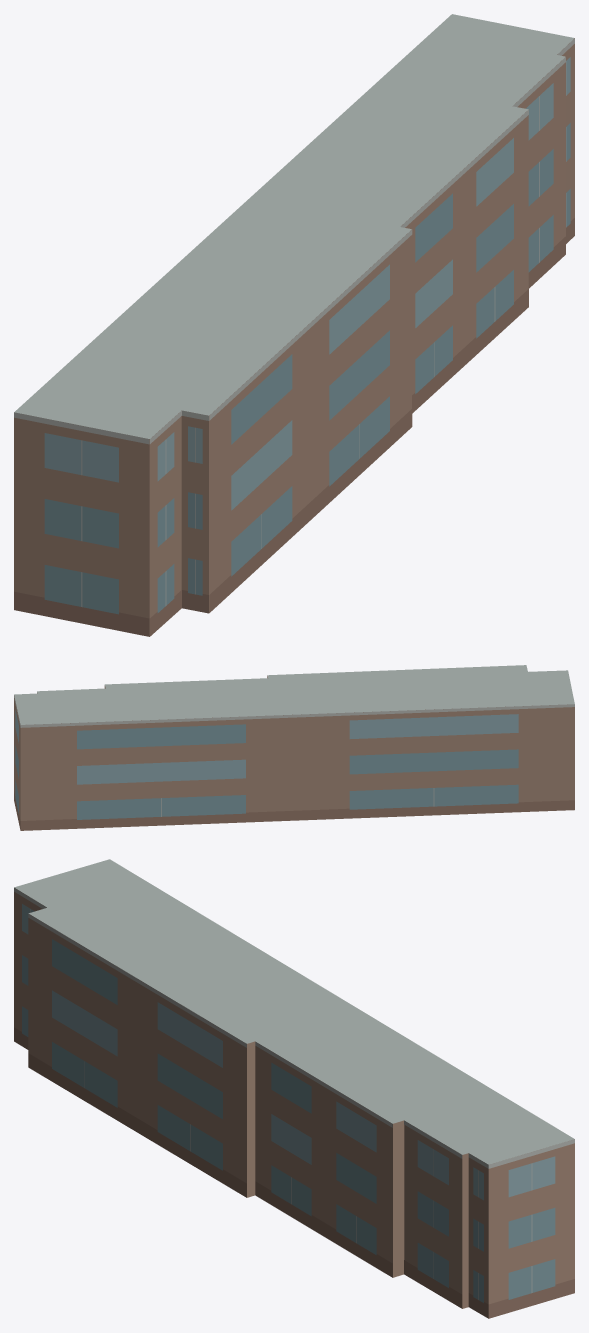
The model's file is survey-upis-32722417.glb.
3 views of the same model, one above another, from view 1: azimuth 30°, elevation 25°; view 2: azimuth 150°, elevation 25°; view 3: azimuth 270°, elevation 25° (orthographic). The views are drawn at different scales.
Parts seen in each view (by area): view 1: survey-upis-32722417.tmp; view 2: survey-upis-32722417.tmp; view 3: survey-upis-32722417.tmp.
Part boxes in pixels (bbox=[...]): survey-upis-32722417.tmp: bbox=[14, 14, 574, 636]; survey-upis-32722417.tmp: bbox=[14, 665, 574, 830]; survey-upis-32722417.tmp: bbox=[14, 859, 574, 1318].
Size of the model in its own units: 38.3 by 9 by 29.71.
